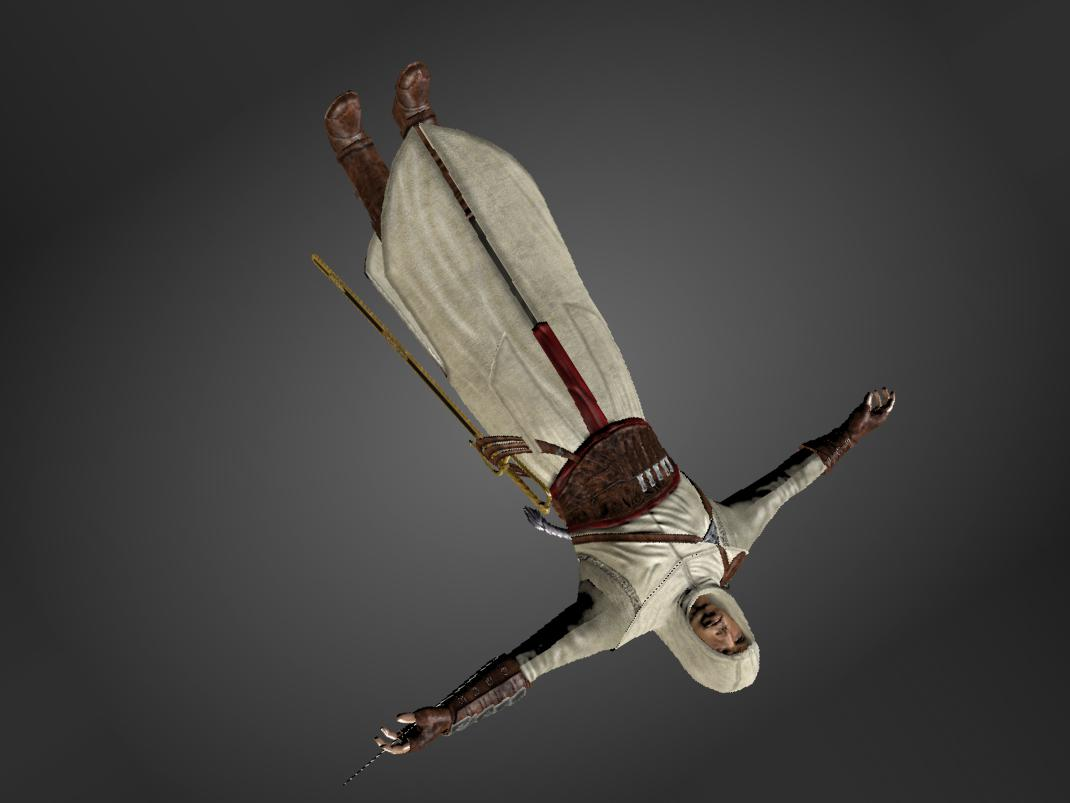clip: (514, 426, 548, 460)
